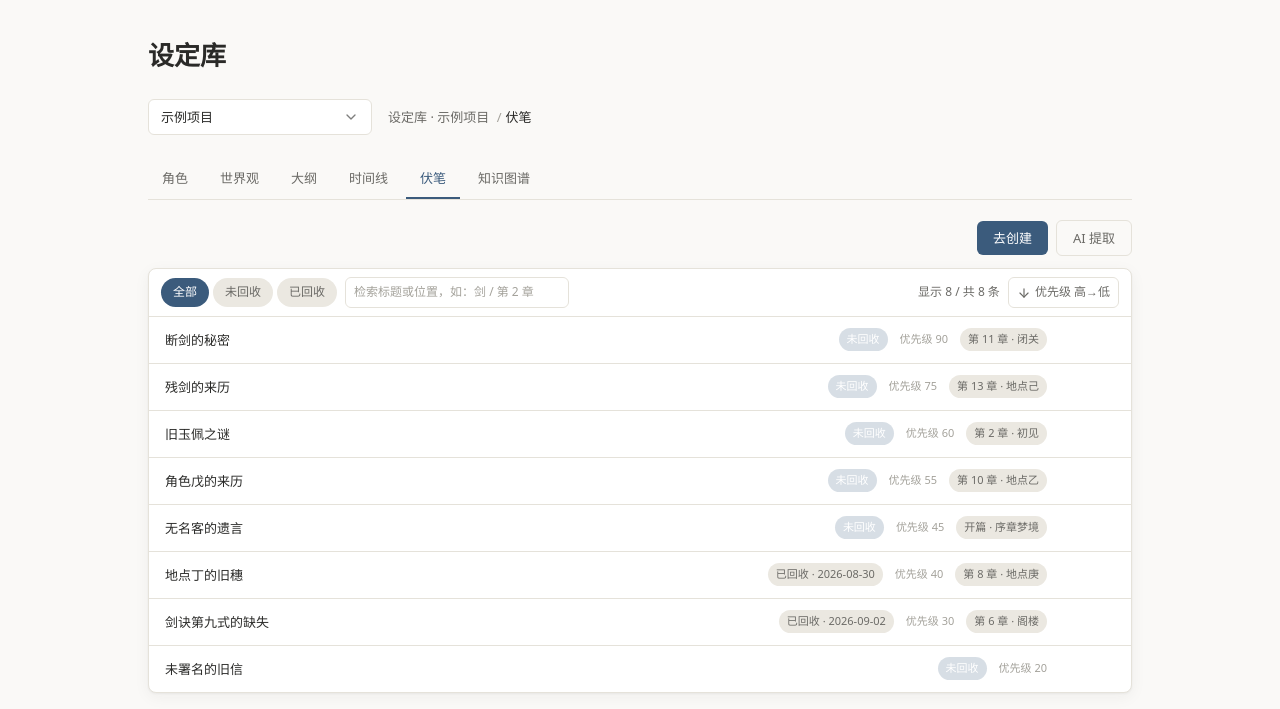
Test: #1376 状态筛选：服务端下沉（total 跟随筛选口径） › 分页 total 随筛选重算：#1320 同类语义（未回收 6 条 → 「共 6 条」，非未筛选 8）
Click the button with test id "fs-status-chip-open" at (243, 293), box x1=213 y1=278 x2=273 y2=307
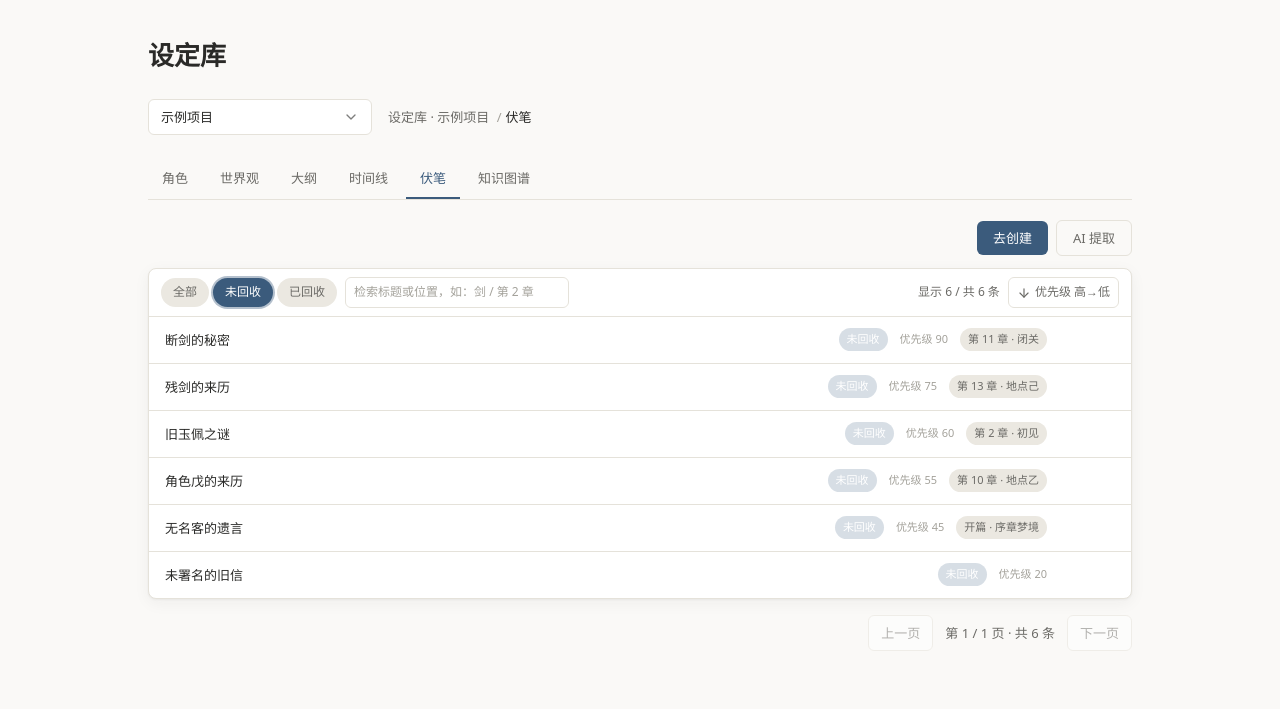
Now the text with test id "library-page-info" reads "第 1 / 1 页 · 共 6 条", box x1=945 y1=624 x2=1055 y2=642
Click the button with test id "fs-status-chip-resolved" at (307, 293), box x1=277 y1=278 x2=337 y2=307
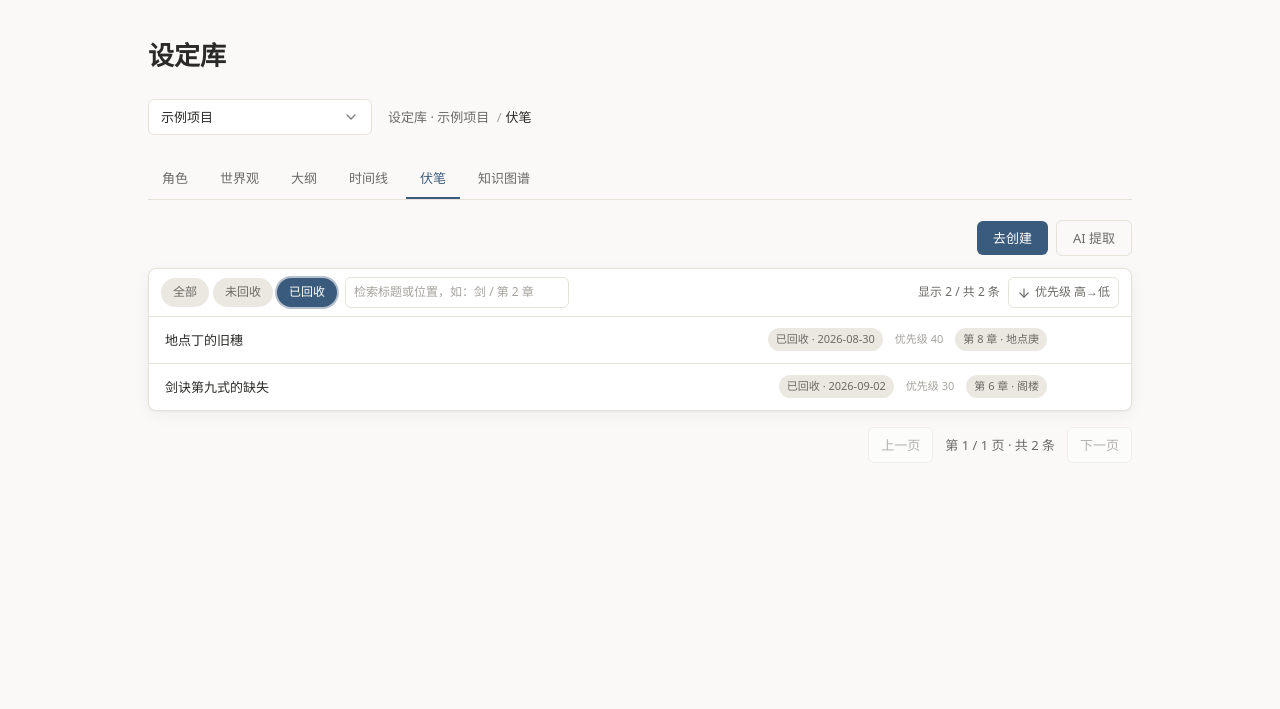
Now the text with test id "library-page-info" reads "第 1 / 1 页 · 共 2 条", box x1=945 y1=436 x2=1055 y2=454
Click the button with test id "fs-status-chip-all" at (185, 293), box x1=161 y1=278 x2=209 y2=307
(page scrolled)
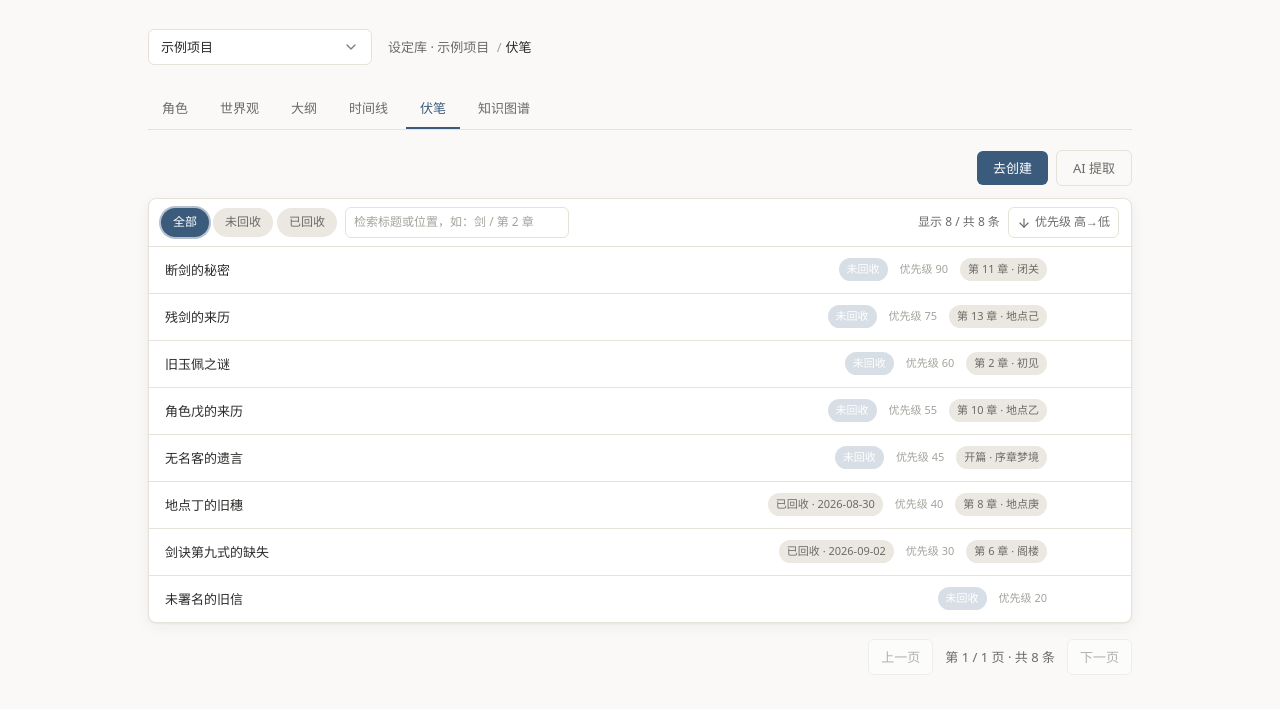
Now the text with test id "library-page-info" reads "第 1 / 1 页 · 共 8 条", box x1=945 y1=648 x2=1055 y2=666
